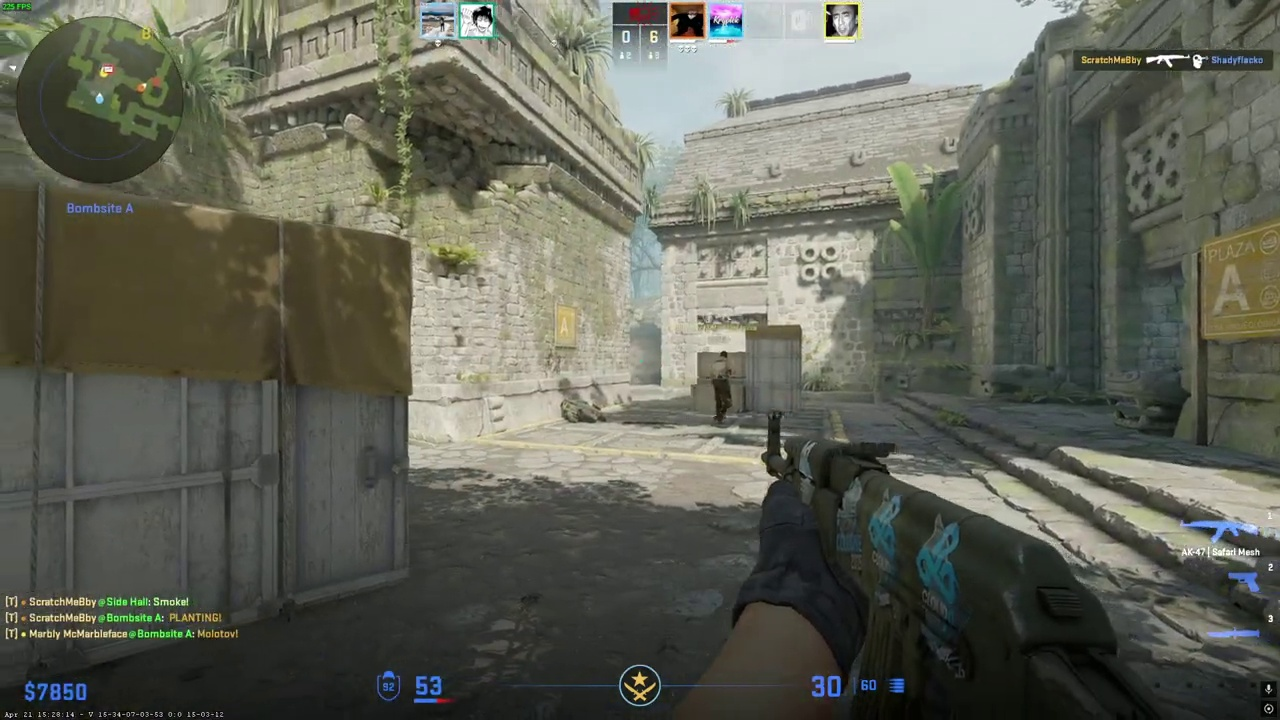Terrorist: (710, 351, 735, 423)
